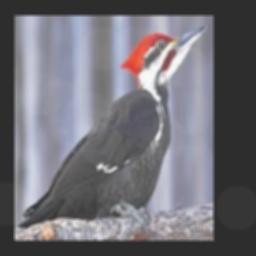Woodpecker: (16, 24, 207, 229)
